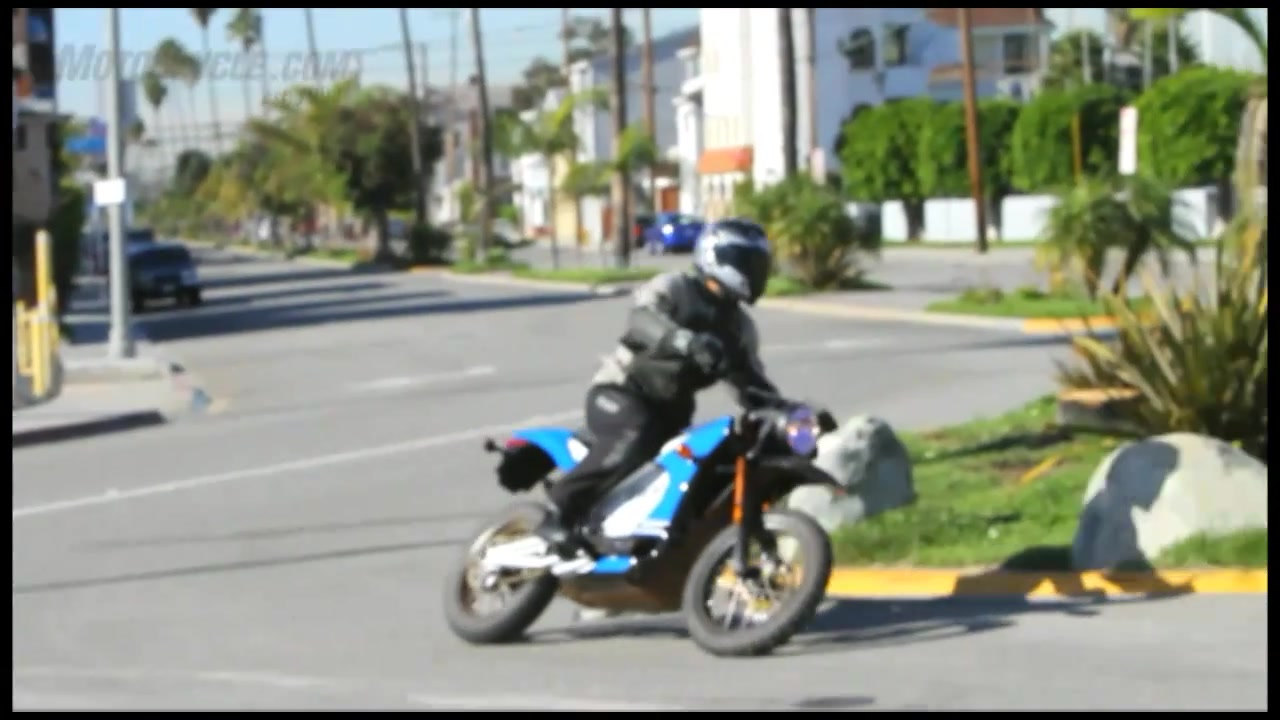motorbike: (444, 378, 840, 658)
